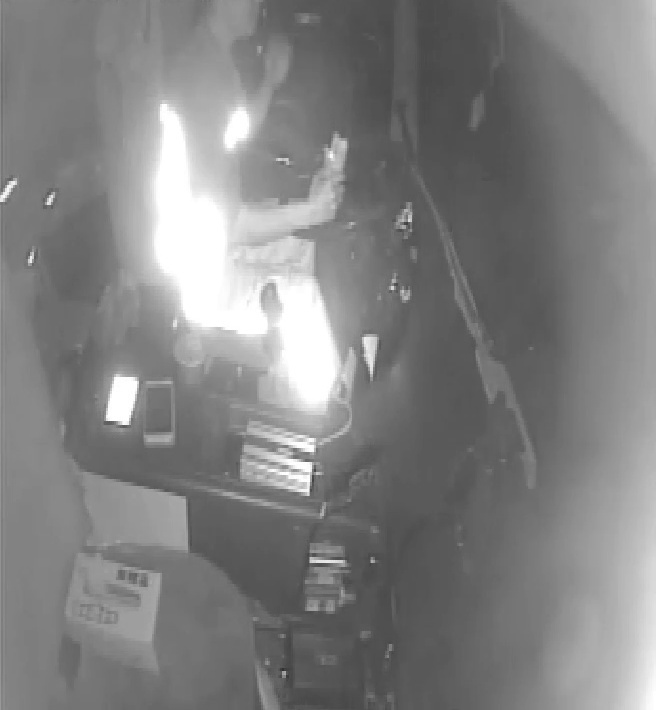cellphone: (105, 364, 137, 436)
